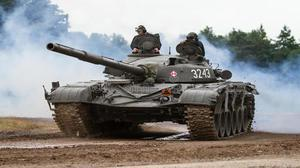t72: (46, 36, 260, 138)
